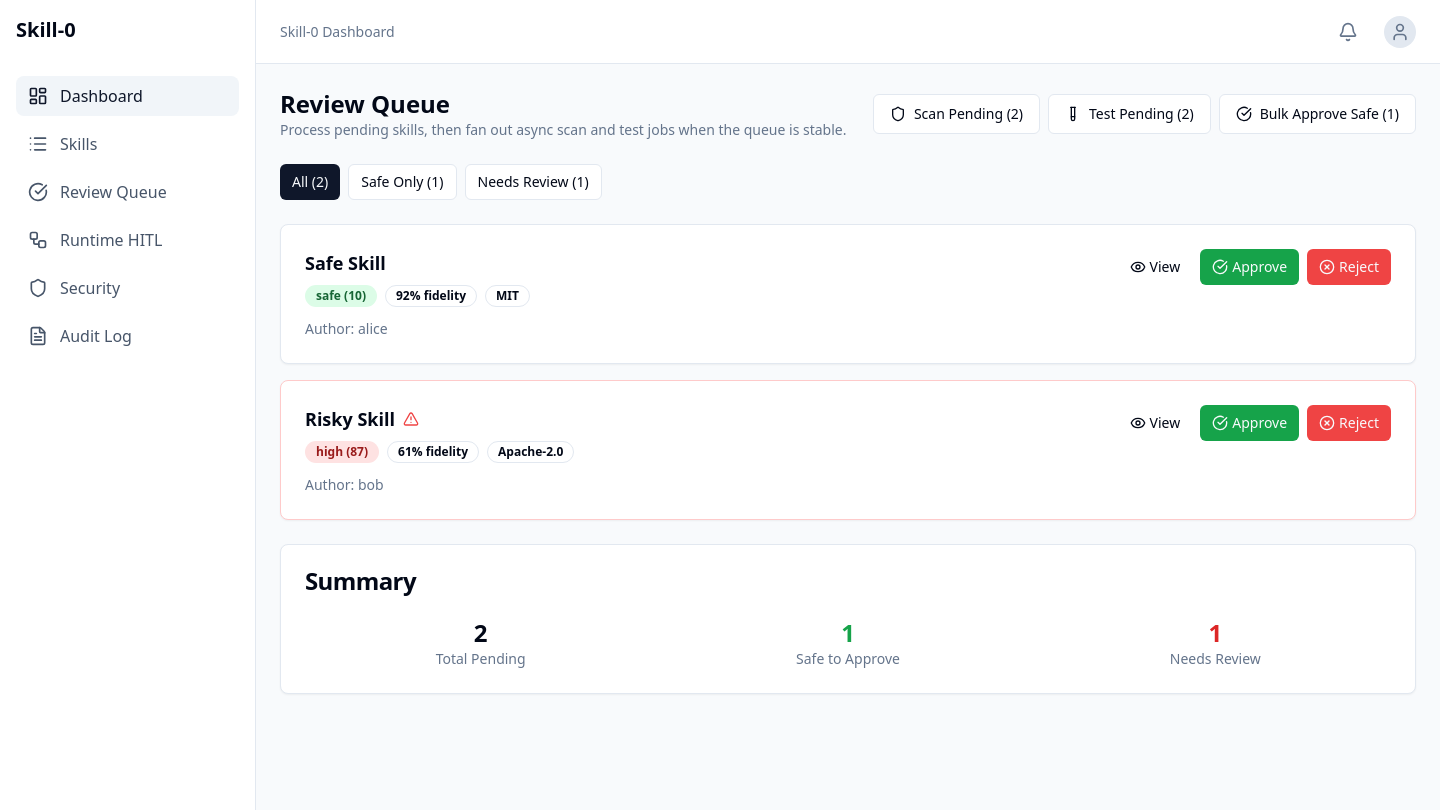
ReviewQueue async action jobs › enqueues a batch scan job from the review queue
The width and height of the screenshot is (1440, 810).
Click the button "Scan Pending (2)".
click(956, 114)  # box x1=873 y1=94 x2=1040 y2=134
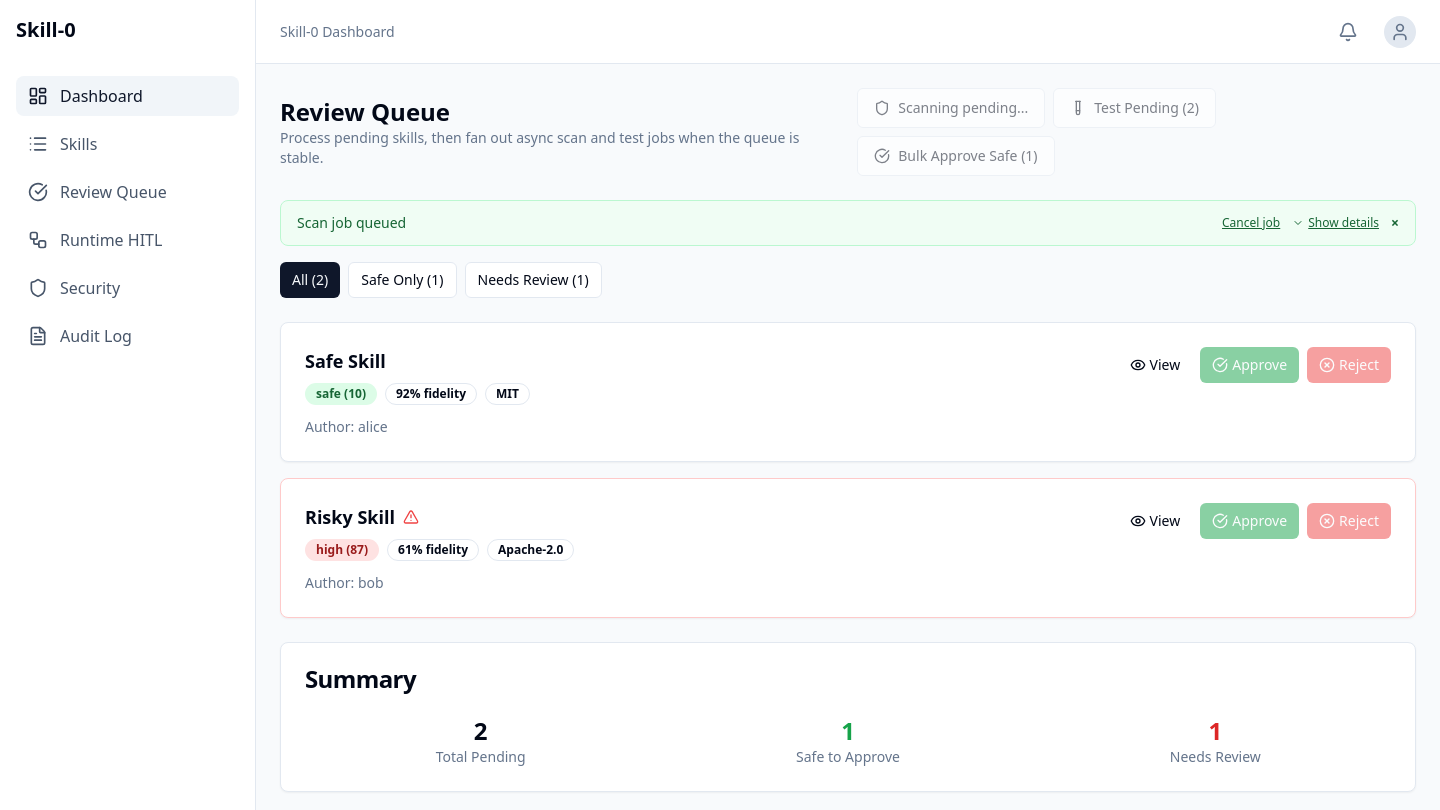
Now the text "Scan job queued" is shown, box x1=297 y1=213 x2=406 y2=233
